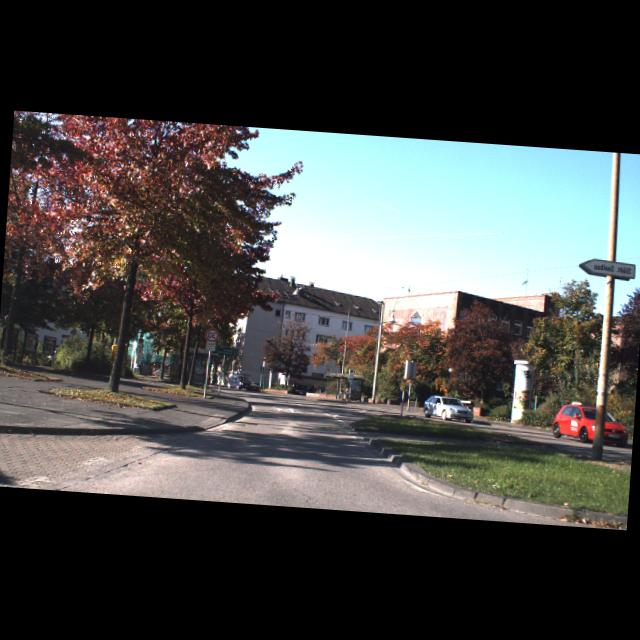prohibitory: (204, 327, 219, 342)
